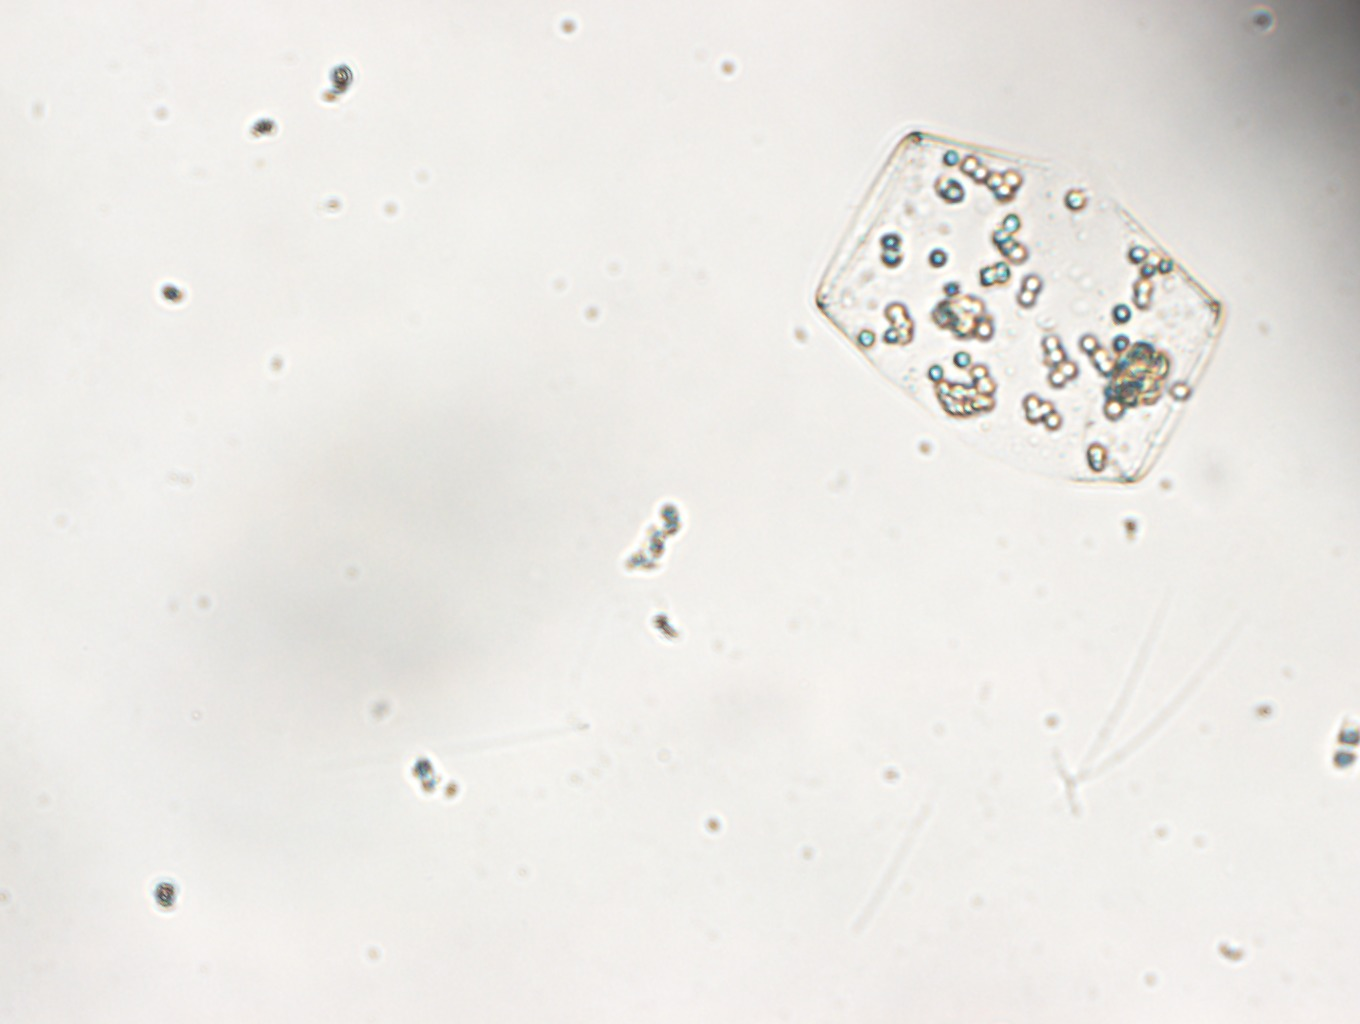guinardia flaccida: (810, 124, 1227, 495)
